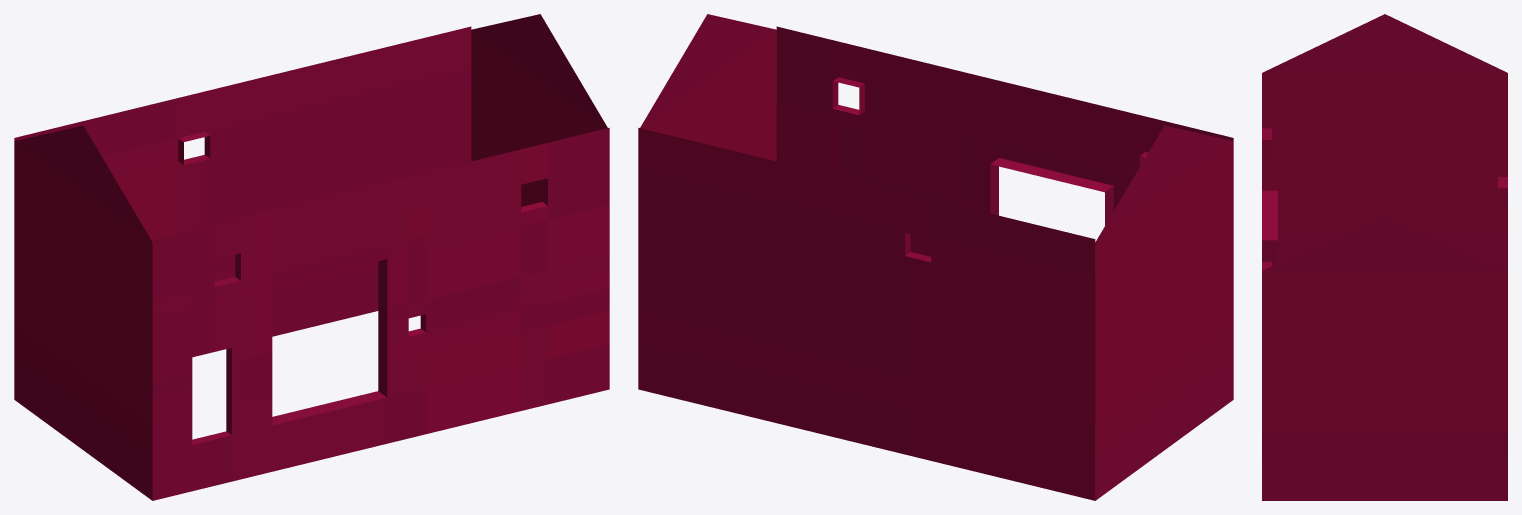
The model's file is SM_Bld_121_Masonry.glb.
3 renders of one model, left to right at view 1: azimuth 30°, elevation 25°; view 2: azimuth 150°, elevation 25°; view 3: azimuth 270°, elevation 25°, orthographic. The views are drawn at different scales.
Parts seen in each view (by area): view 1: SM_Bld_121_Masonry; view 2: SM_Bld_121_Masonry; view 3: SM_Bld_121_Masonry.
Part boxes in pixels (x1,y1,x2,y2): SM_Bld_121_Masonry: (14, 14, 609, 500); SM_Bld_121_Masonry: (638, 14, 1233, 500); SM_Bld_121_Masonry: (1262, 14, 1507, 500).
Size of the model in its own units: 10.36 by 7.04 by 5.43.
